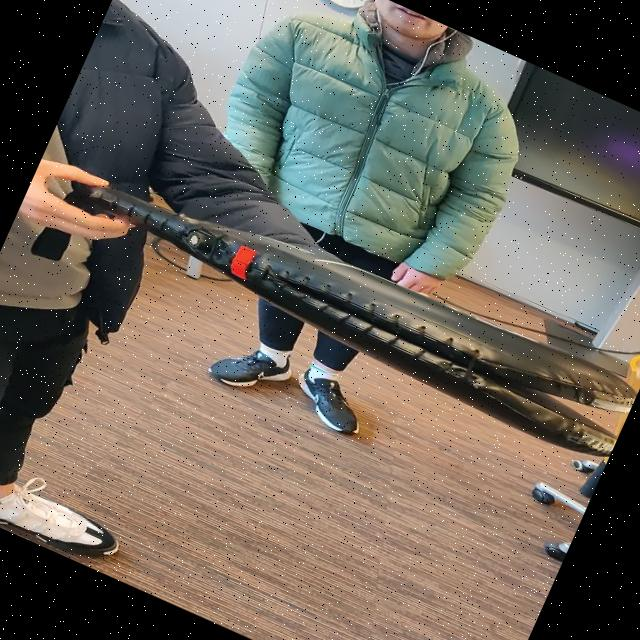paddle: (80, 185, 638, 457)
